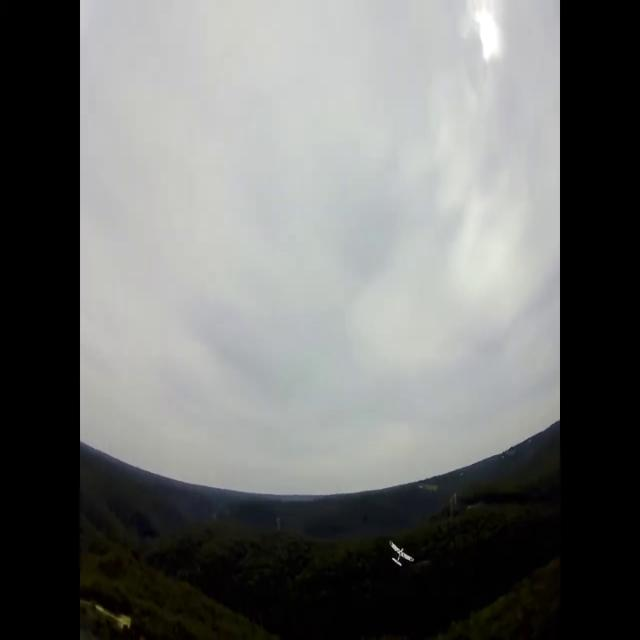iha: (390, 539, 414, 567)
